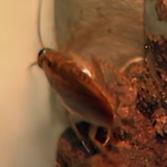cockroach: (33, 42, 118, 150)
